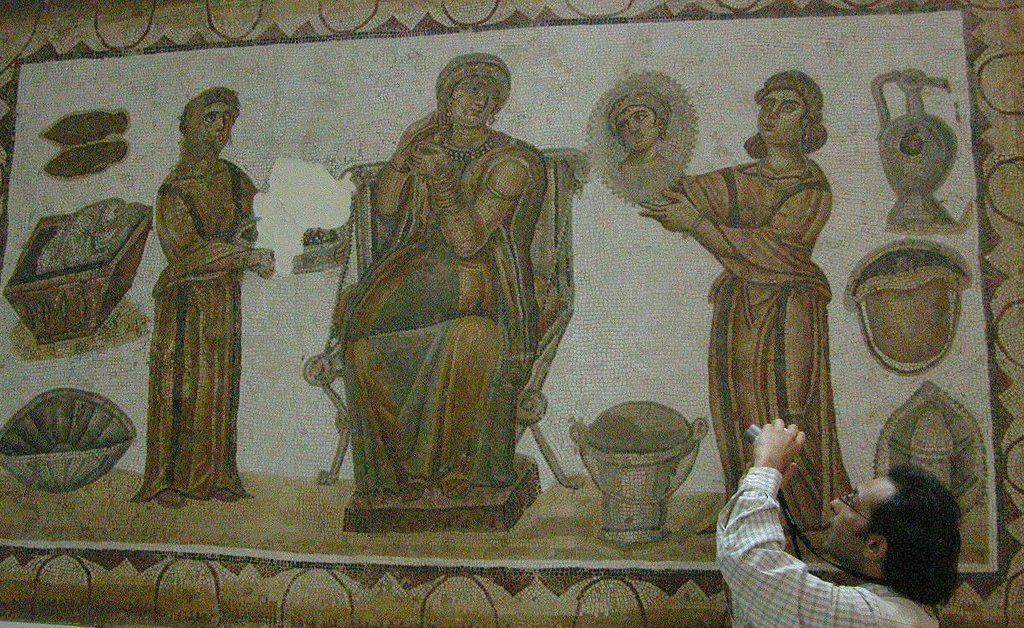Person: (330, 51, 548, 533), (639, 64, 832, 556), (127, 85, 275, 507), (711, 420, 962, 628), (607, 90, 671, 171)
